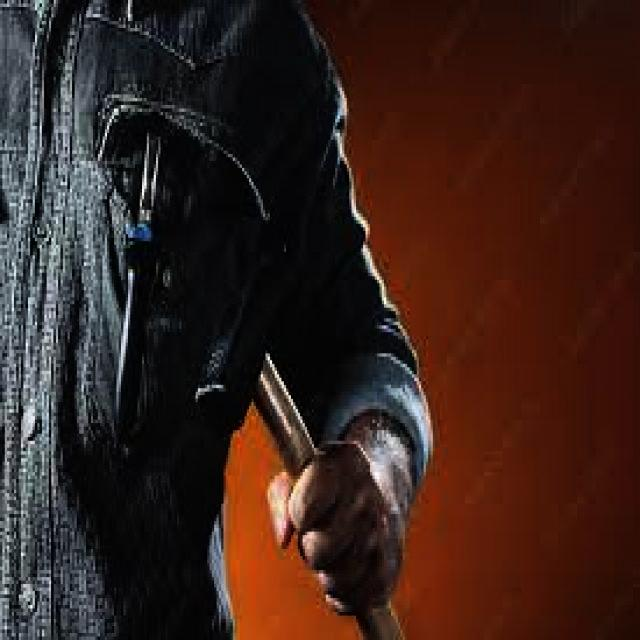hammer: (193, 255, 417, 640)
